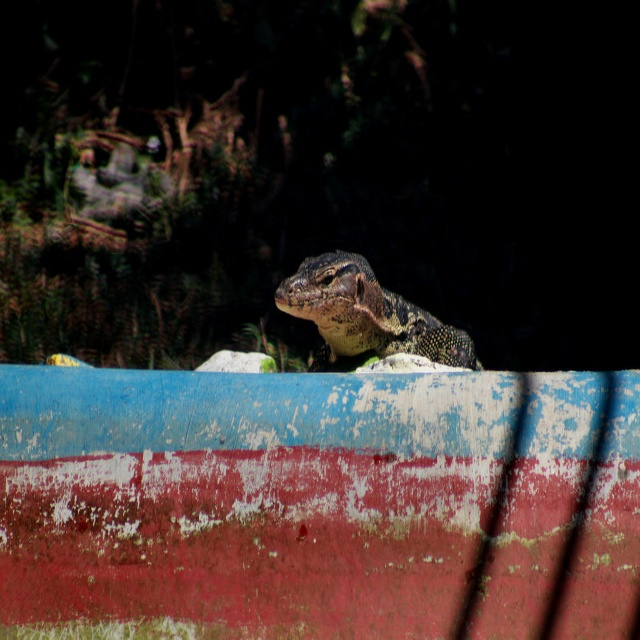Lizard: (269, 257, 484, 405)
